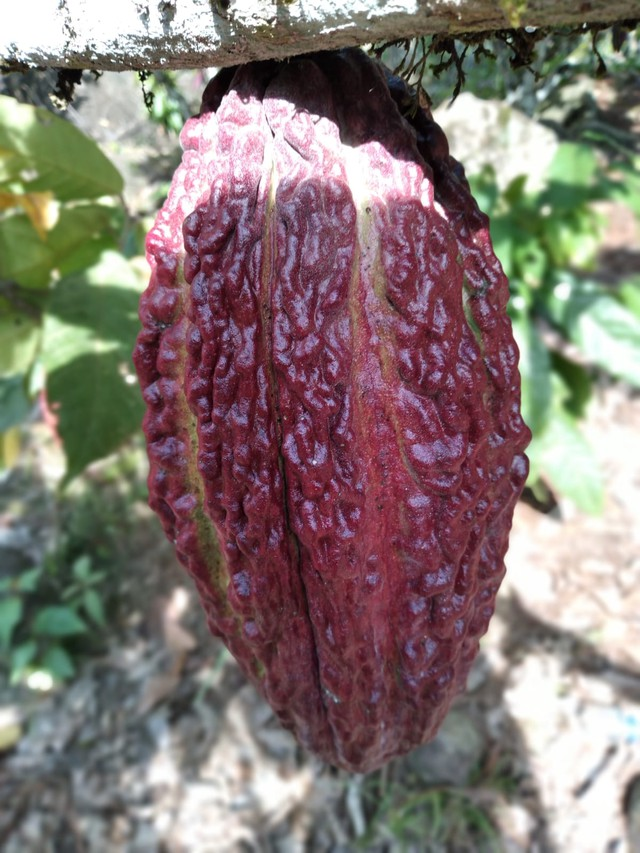Health: (123, 14, 546, 787)
